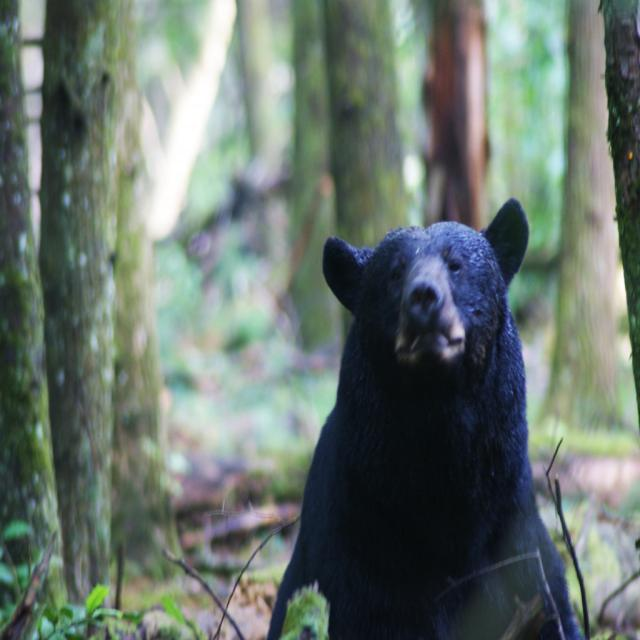Bear: (267, 197, 587, 640)
